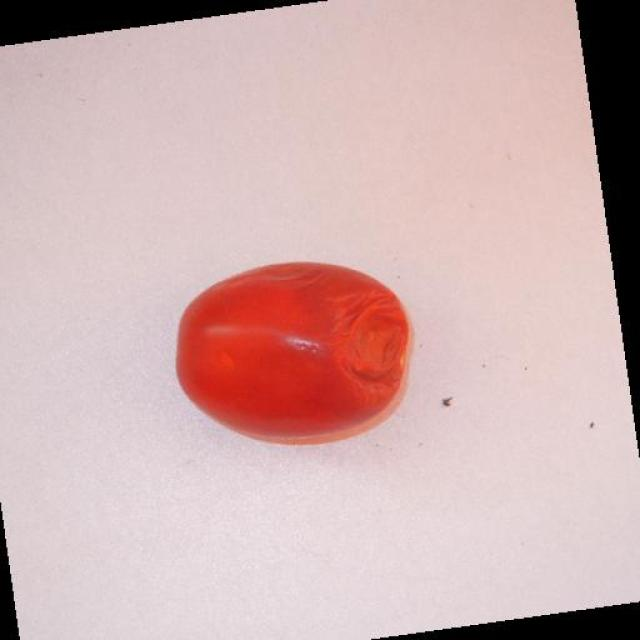Stale_tomato: (168, 263, 412, 426), (334, 293, 406, 398)
